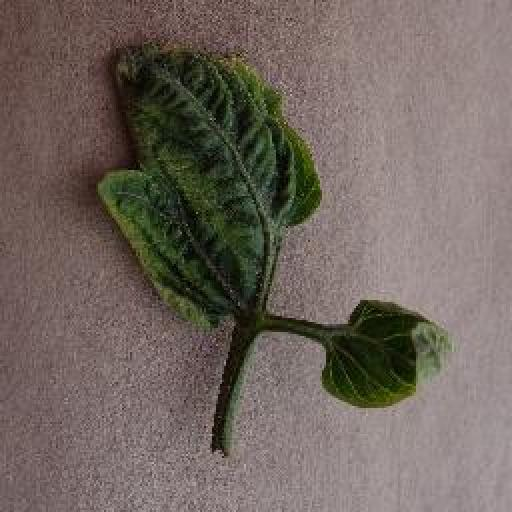disease_tomato: (88, 38, 323, 330), (315, 294, 453, 410)
